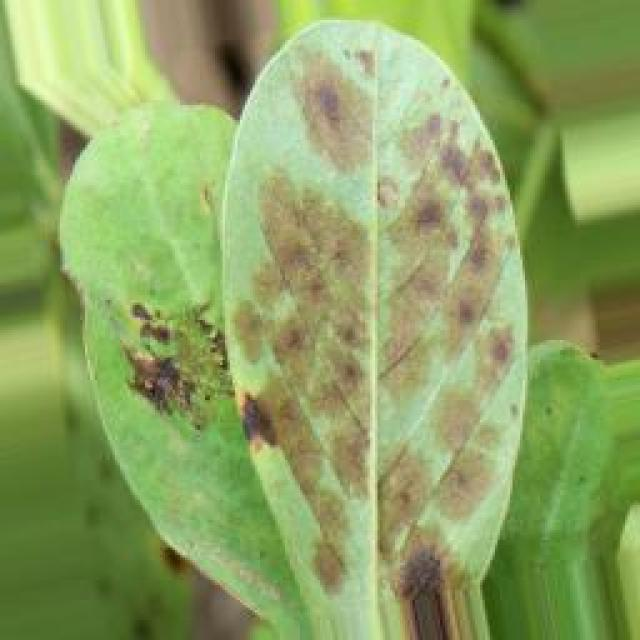Whitefly: (65, 4, 576, 612)
